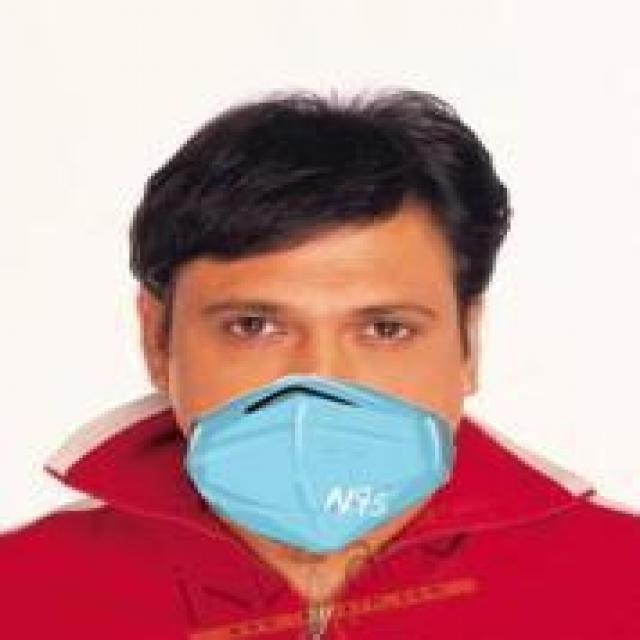mask: (119, 70, 532, 555)
